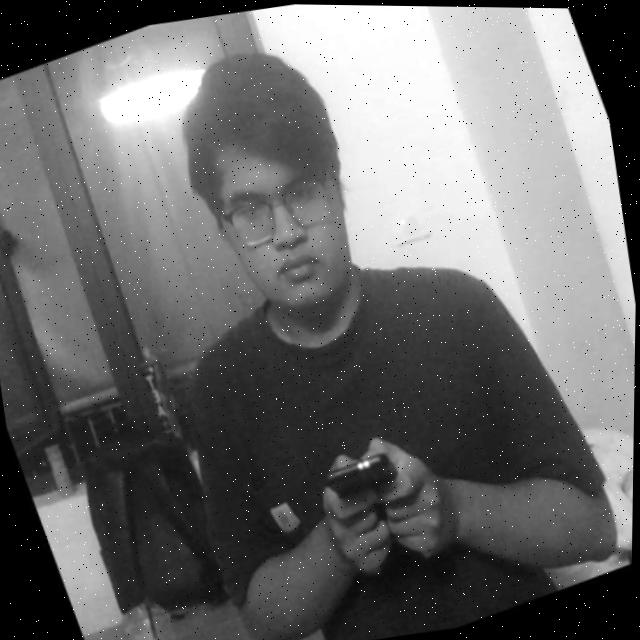phone: (303, 422, 420, 531)
